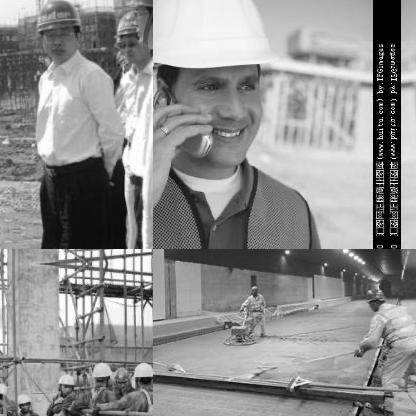Helmet: (153, 0, 304, 172), (32, 0, 84, 60), (114, 8, 144, 60), (127, 0, 152, 51), (363, 284, 387, 312), (132, 358, 152, 388), (91, 358, 111, 386), (54, 372, 74, 394), (112, 366, 130, 390), (16, 389, 30, 411), (0, 379, 9, 403), (248, 281, 258, 297)
